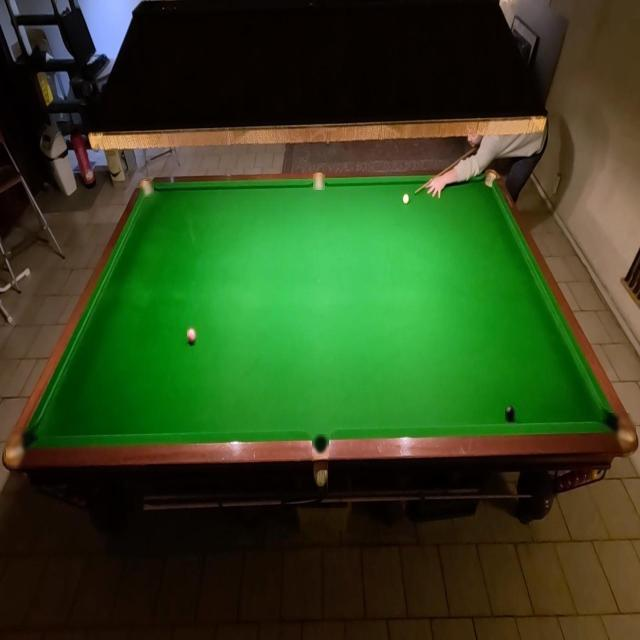Ball: (506, 406, 518, 426), (188, 326, 198, 344), (402, 192, 410, 206)
Pocket: (6, 427, 38, 469), (603, 414, 636, 452), (312, 434, 329, 456), (482, 171, 498, 190), (140, 182, 154, 198), (313, 174, 325, 190)
